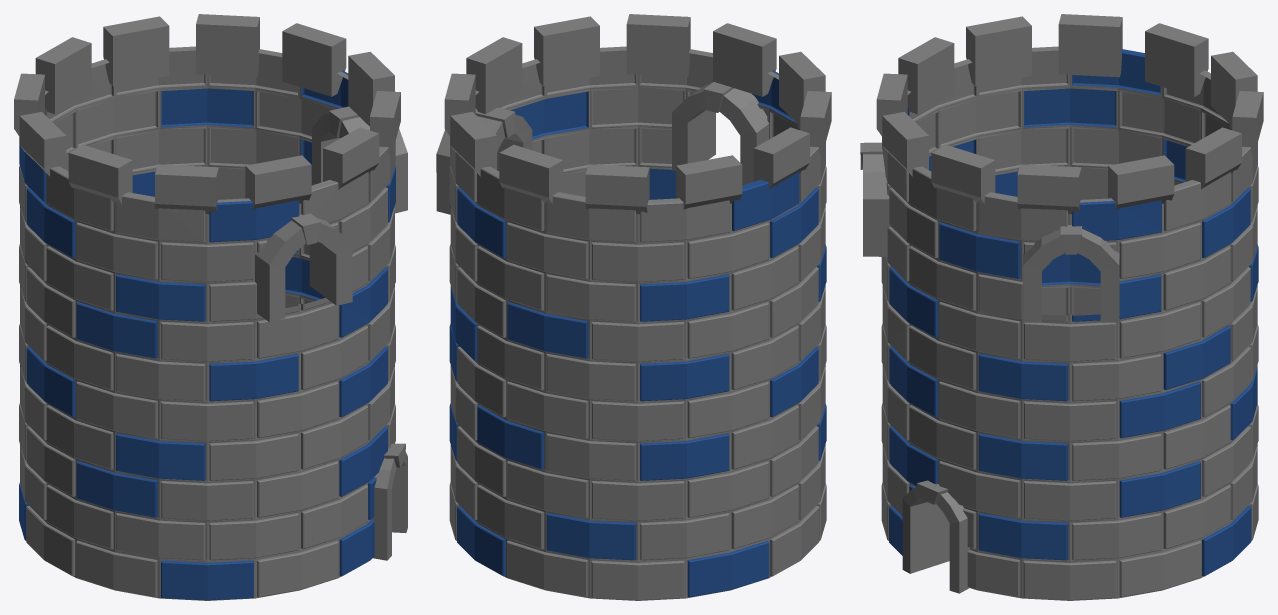
The model's file is roughness_test.glb.
3 renders of one model, left to right at view 1: azimuth 30°, elevation 25°; view 2: azimuth 150°, elevation 25°; view 3: azimuth 270°, elevation 25°, orthographic.
Visible parts, largest first — view 1: Turret.FrontRight.Primary_tcollider, Turret.FrontRight.Secondary_tcollider; view 2: Turret.FrontRight.Primary_tcollider, Turret.FrontRight.Secondary_tcollider; view 3: Turret.FrontRight.Primary_tcollider, Turret.FrontRight.Secondary_tcollider.
Part boxes in pixels (box(x1,y1,x2,y2)): Turret.FrontRight.Primary_tcollider: box(14, 14, 407, 600); Turret.FrontRight.Secondary_tcollider: box(19, 70, 395, 600); Turret.FrontRight.Primary_tcollider: box(436, 14, 831, 600); Turret.FrontRight.Secondary_tcollider: box(449, 70, 826, 597); Turret.FrontRight.Primary_tcollider: box(860, 14, 1263, 600); Turret.FrontRight.Secondary_tcollider: box(882, 49, 1258, 576).
Size of the model in its own units: 2.16 by 2.55 by 2.18.
Materials: 1 (1 with a texture image).
